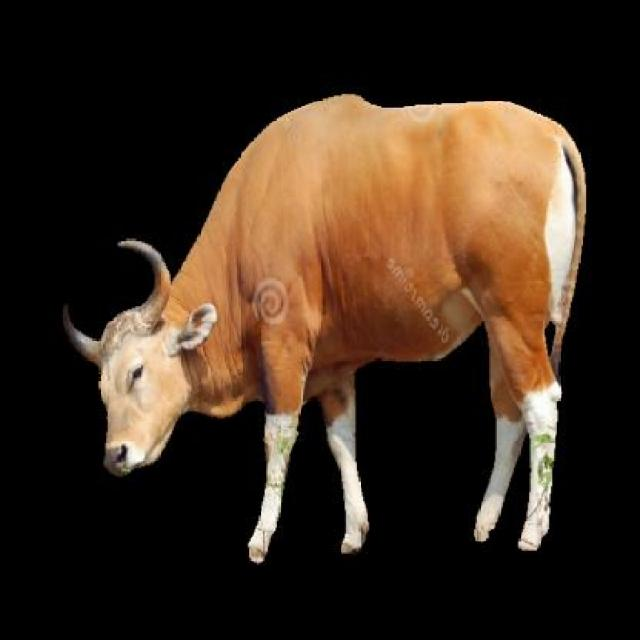Cow: (60, 94, 589, 560)
